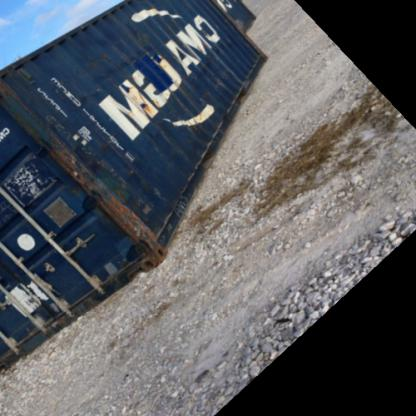Damage: (56, 134, 162, 247), (88, 44, 171, 74), (2, 163, 53, 205), (180, 110, 214, 145), (133, 87, 161, 120)
